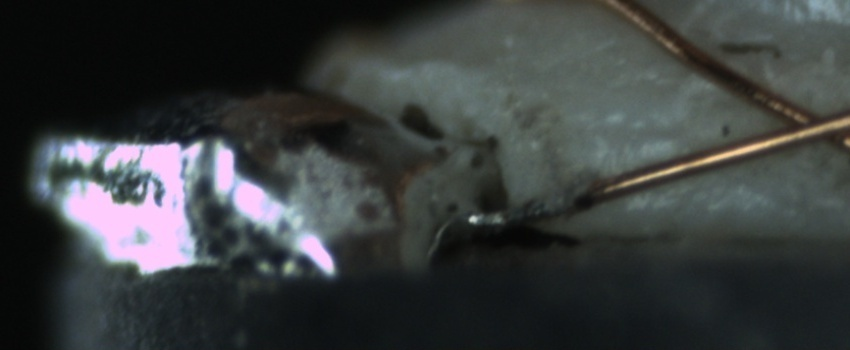CL: (750, 84, 847, 151)
DL: (576, 109, 707, 167)
TS: (457, 186, 575, 234)
